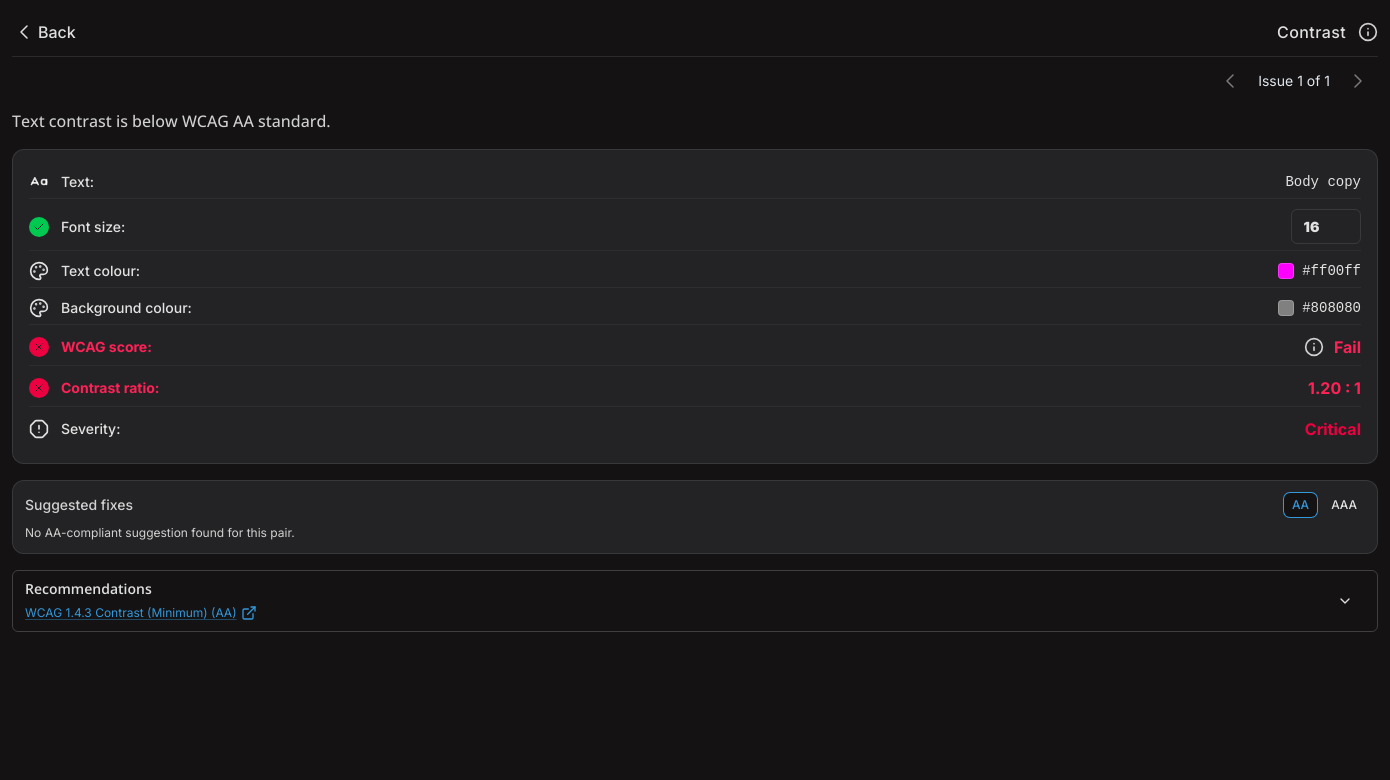
Test: IssuesNavigator › Suggested fixes card › shows a fallback message when no suggestion is reachable at the selected level
Click the radio button labelled "AAA".
click(1344, 505)  # box [1323,493,1365,517]
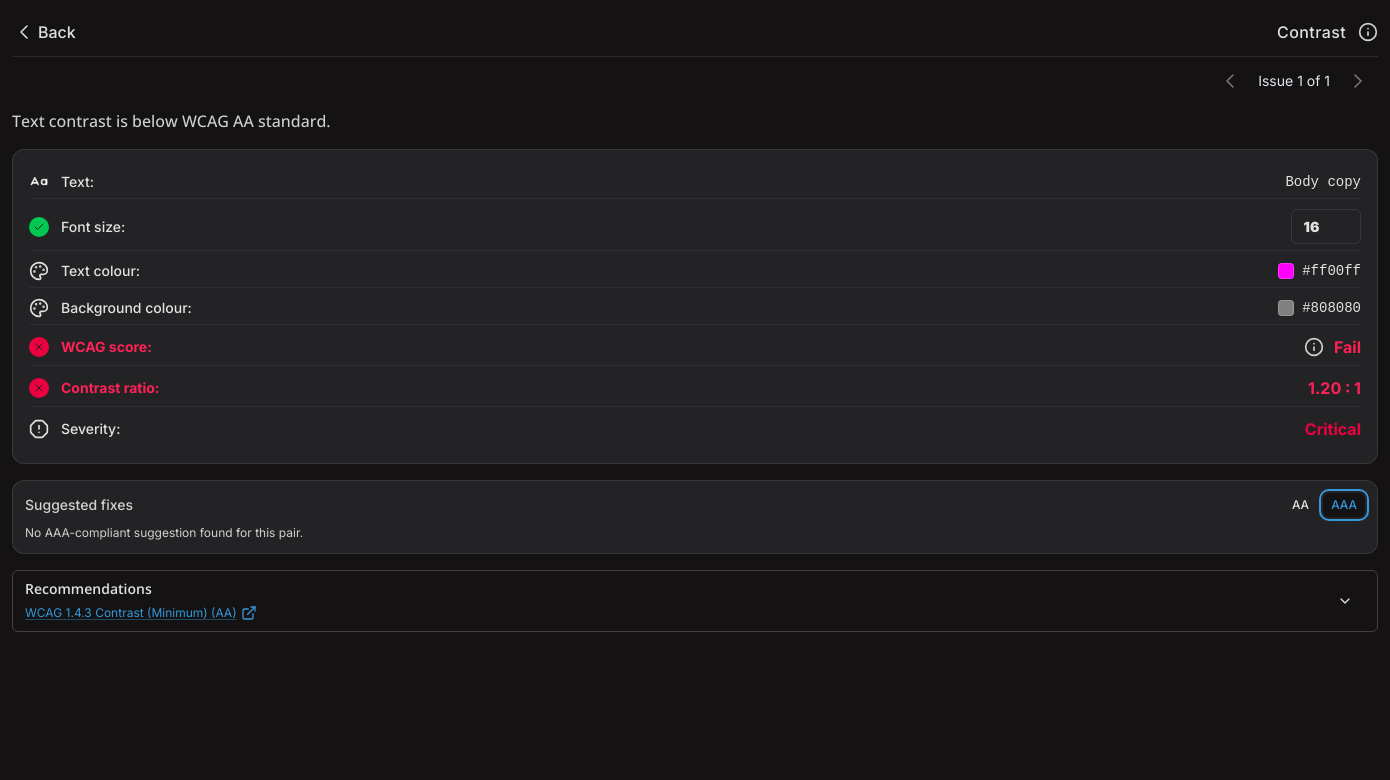
Expected: the text "No AAA-compliant suggestion found for this pair." is shown, [25,525,303,540]
